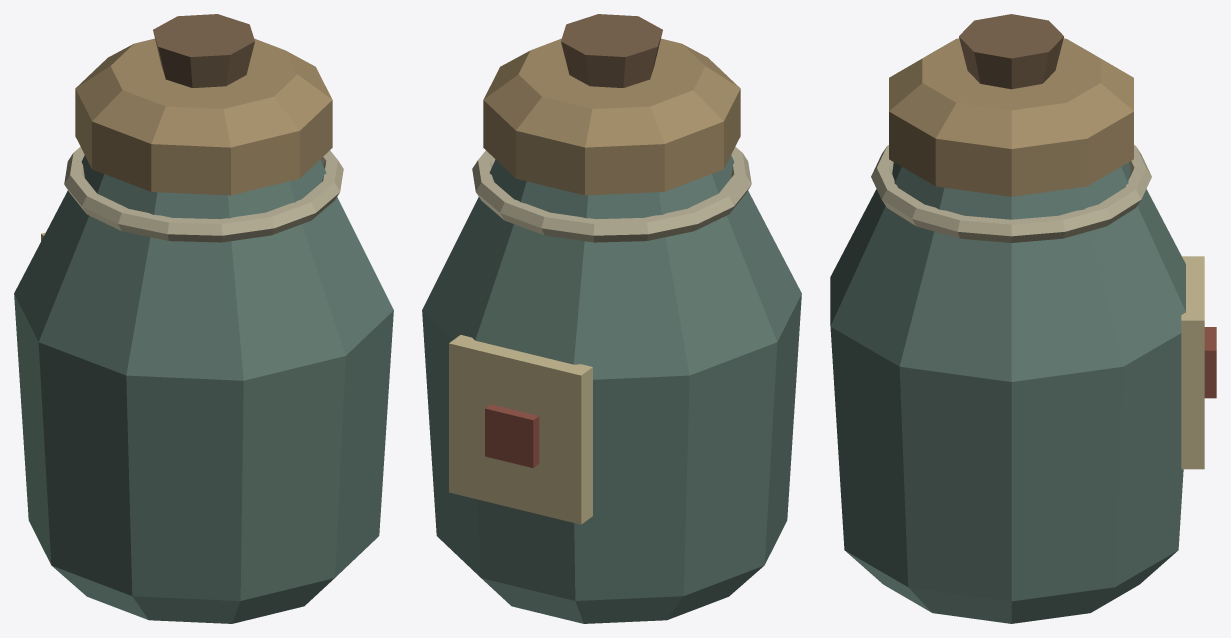
File: SWP_SpiceJar.fbx
The picture shows the model from 3 angles, left to right: view 1: azimuth 30°, elevation 25°; view 2: azimuth 150°, elevation 25°; view 3: azimuth 270°, elevation 25°; orthographic projection.
Parts seen in each view (by area): view 1: SWP_SpiceJar; view 2: SWP_SpiceJar; view 3: SWP_SpiceJar.
Boxes of the visible parts, box(x1,y1,x2,y2) form: SWP_SpiceJar: box(14, 14, 393, 623); SWP_SpiceJar: box(422, 14, 801, 623); SWP_SpiceJar: box(830, 14, 1216, 623).
Size of the model in its own units: 0.13 by 0.2 by 0.1318.
